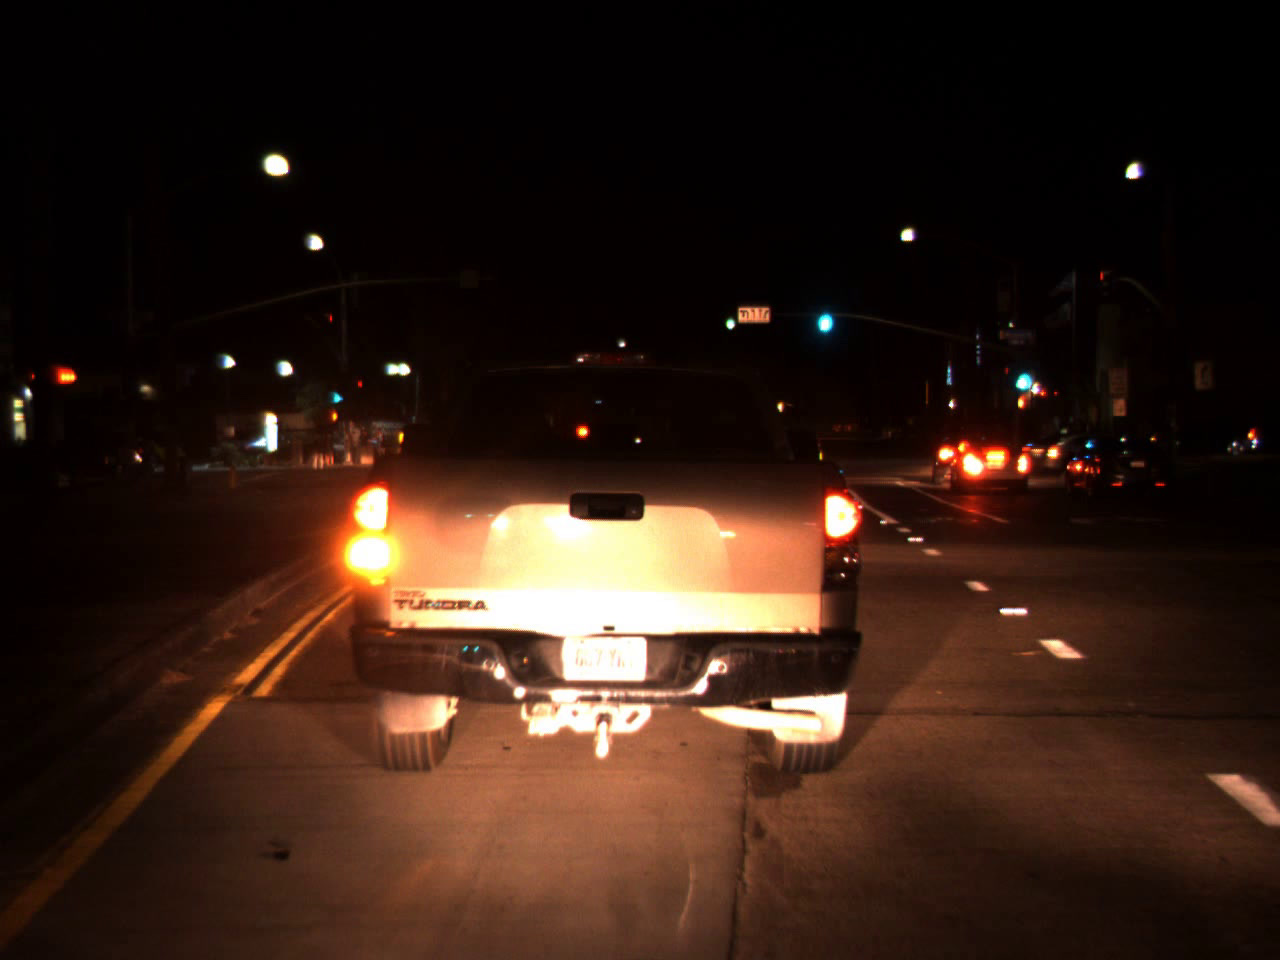go: (812, 289, 835, 340), (1014, 351, 1033, 396), (327, 376, 346, 409), (723, 306, 735, 333)
